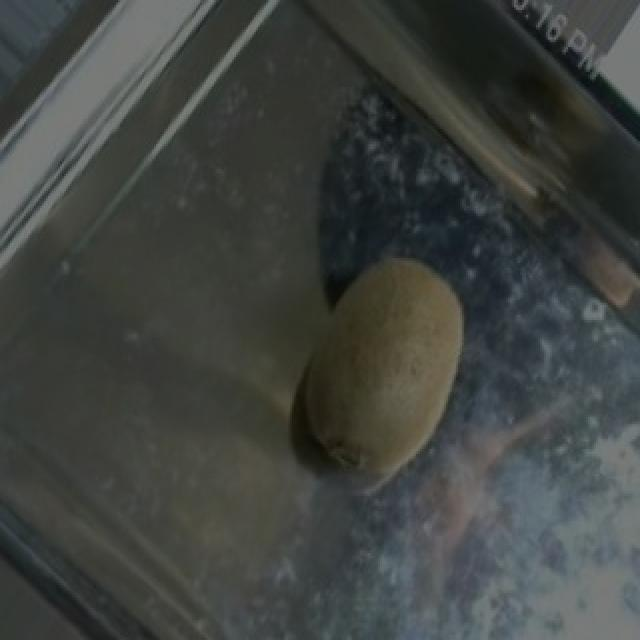Fruit: (268, 233, 490, 506)
